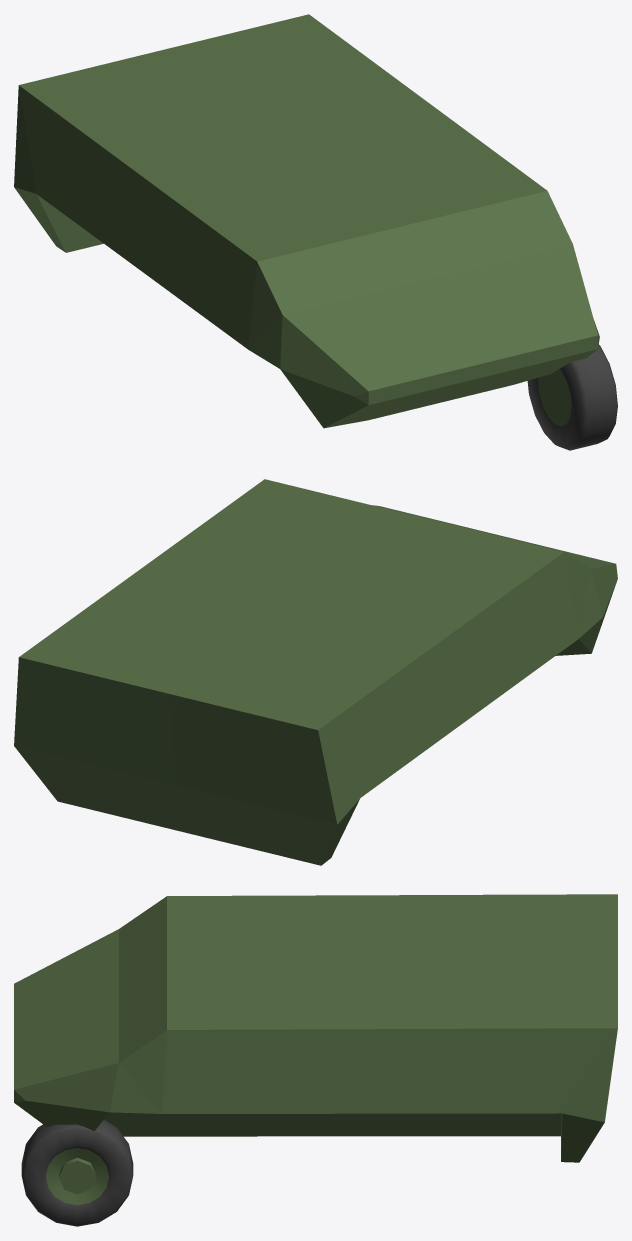
The model's file is LAV.fbx.
The picture shows the model from 3 angles, top to bottom: view 1: azimuth 30°, elevation 25°; view 2: azimuth 150°, elevation 25°; view 3: azimuth 270°, elevation 25°; orthographic projection. The views are drawn at different scales.
Parts seen in each view (by area): view 1: chassis, wheel; view 2: chassis; view 3: chassis, wheel.
Part boxes in pixels (<box>): chassis: <box>14,14,599,428</box>; wheel: <box>527,345,617,450</box>; chassis: <box>14,479,617,865</box>; chassis: <box>14,894,617,1162</box>; wheel: <box>21,1120,133,1226</box>.
Bounding box in the file's own units: 540 × 352 × 953.
